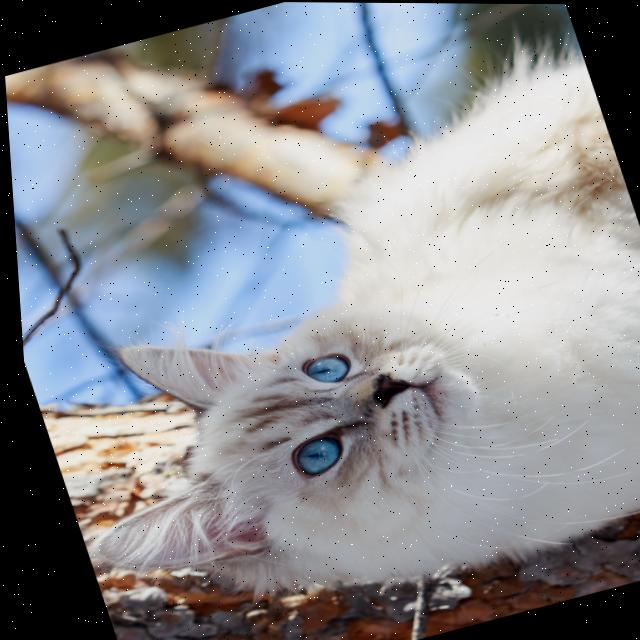Neva Masquerade: (1, 24, 640, 640)
